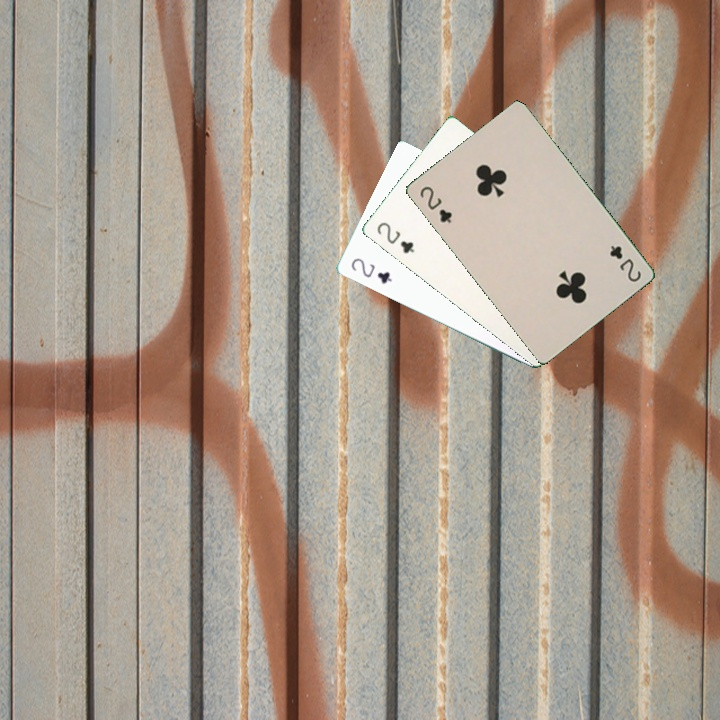2c: (415, 182, 455, 226), (605, 241, 644, 285), (373, 218, 417, 256), (347, 254, 394, 287)
